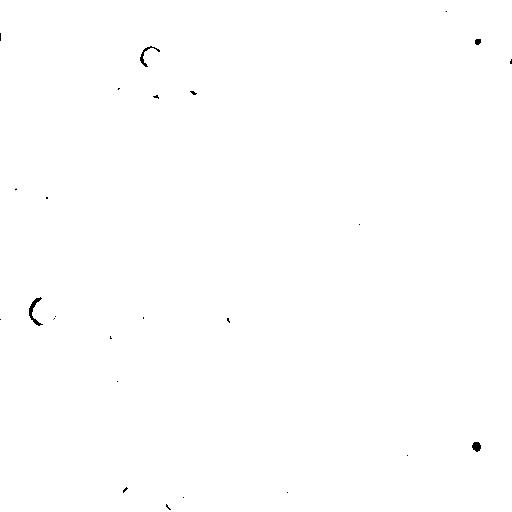micro-algae: (446, 374, 511, 465), (289, 361, 353, 421), (275, 309, 318, 345), (458, 61, 495, 98), (182, 18, 219, 53), (456, 428, 492, 462), (462, 23, 494, 57), (28, 294, 60, 325), (467, 360, 499, 391), (185, 66, 214, 98), (171, 86, 199, 115), (421, 0, 454, 24), (262, 163, 289, 190), (113, 52, 142, 77), (224, 301, 247, 332), (101, 72, 127, 99), (103, 322, 129, 349), (55, 375, 83, 400), (383, 325, 410, 350), (497, 33, 512, 77), (283, 477, 305, 507), (35, 183, 59, 209), (170, 380, 196, 404), (233, 51, 254, 80), (1, 29, 25, 53), (139, 44, 162, 69), (120, 483, 143, 508), (39, 431, 61, 457), (415, 498, 459, 511), (163, 487, 185, 512), (394, 437, 419, 459), (114, 367, 137, 389), (245, 354, 265, 379), (375, 172, 396, 195), (357, 213, 375, 239), (164, 323, 185, 345), (224, 138, 247, 158), (261, 283, 280, 305), (129, 303, 149, 322), (146, 442, 165, 462), (6, 119, 26, 135), (11, 185, 29, 199), (147, 0, 165, 13)
